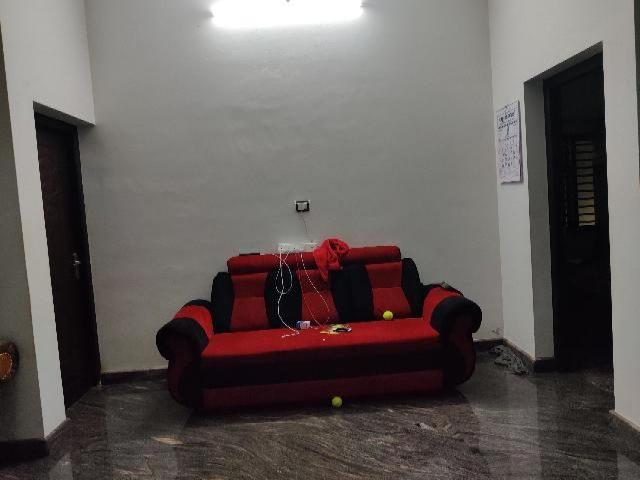tennis-ball: (383, 310, 393, 320), (332, 396, 342, 406)
